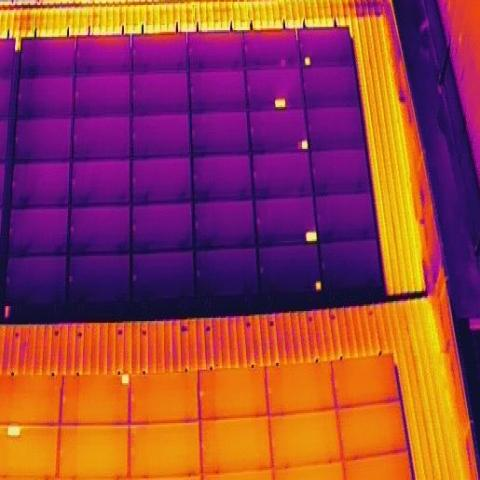fault: (6, 422, 23, 439), (304, 227, 318, 245), (274, 96, 287, 110), (313, 277, 324, 293), (120, 373, 131, 388), (303, 52, 311, 72), (301, 138, 309, 151), (296, 140, 302, 150)
